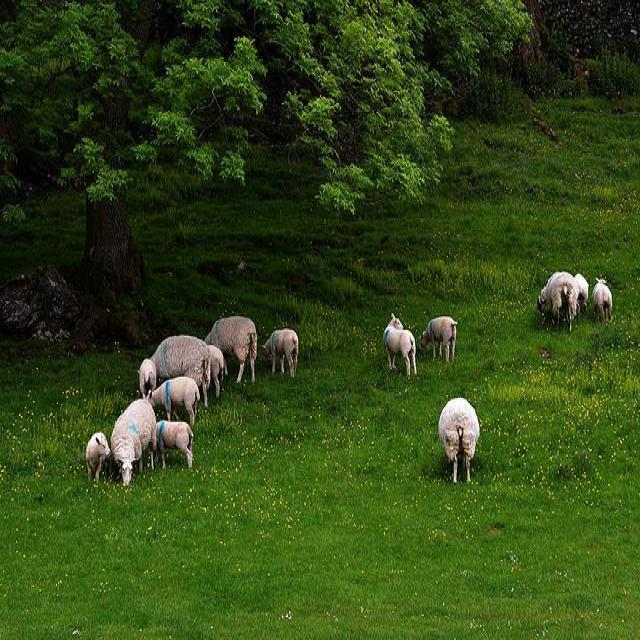Sheep: (257, 272, 616, 377), (153, 334, 212, 408), (111, 400, 156, 488), (205, 316, 258, 384), (439, 398, 480, 484), (538, 272, 579, 332), (383, 312, 417, 376), (153, 420, 195, 470), (418, 314, 459, 364)
